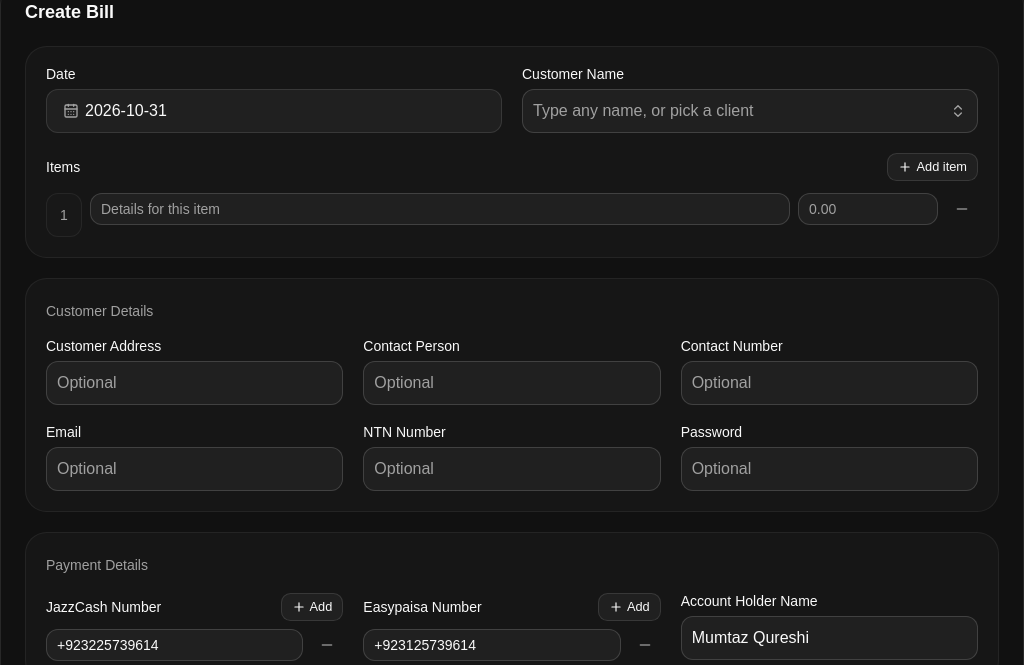
Test: CreateBillForm › shows the total in PKR and the total in words
Type "1500" into the field named "Amount for item 1".
click(868, 209); type("1500")  # box top-left (798, 193), bottom-right (938, 225)
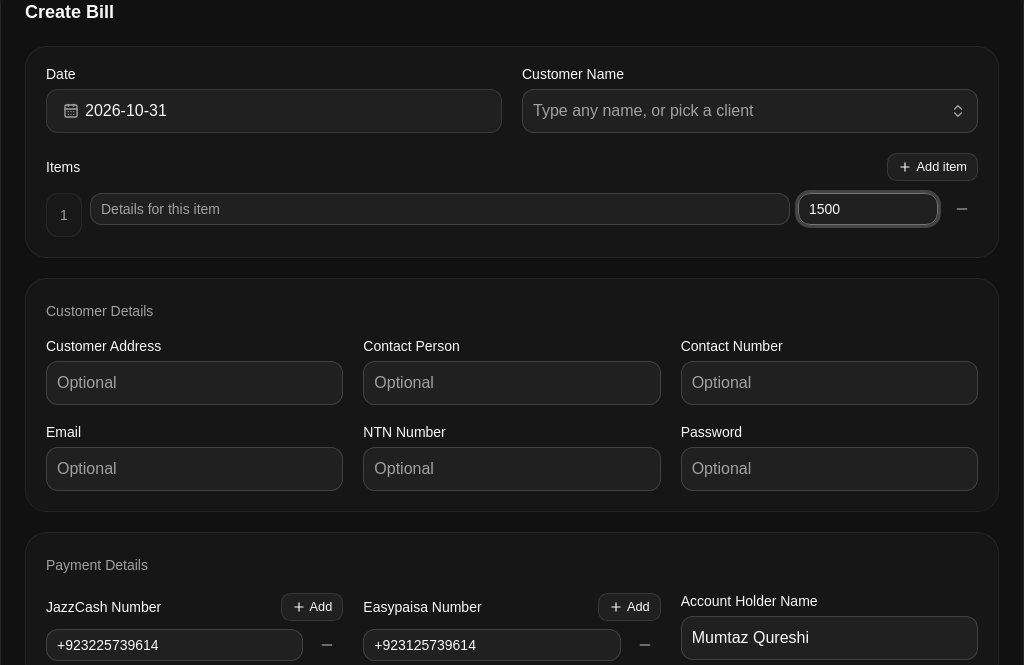
Click the button "Add item".
click(933, 167)  # box top-left (888, 153), bottom-right (978, 181)
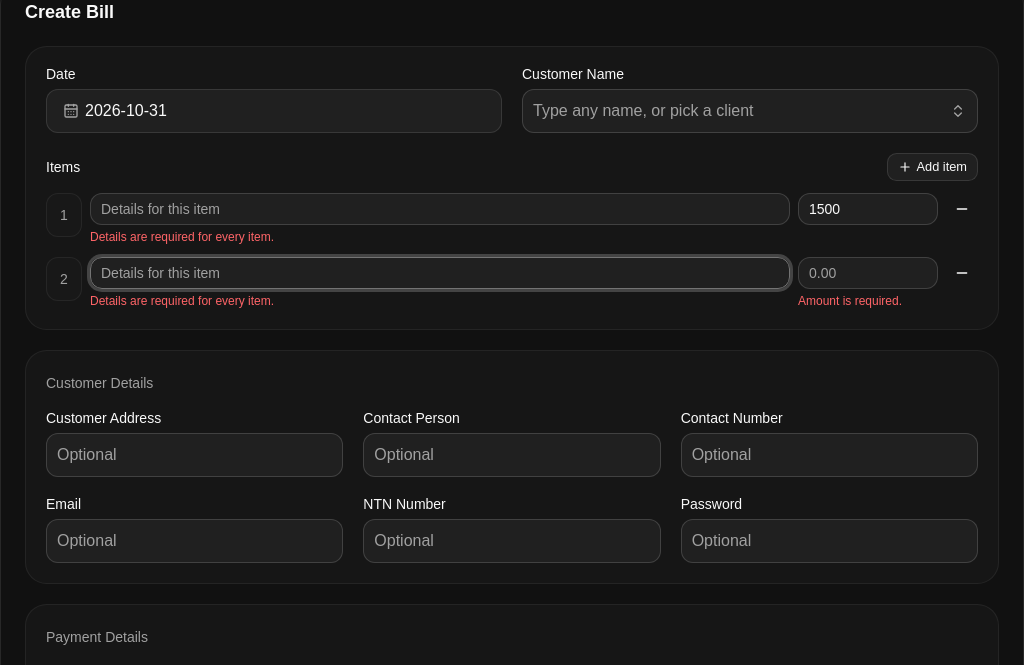
Type "250.50" into the field named "Amount for item 2".
click(868, 273); type("250.50")  # box top-left (798, 257), bottom-right (938, 289)
(page scrolled)
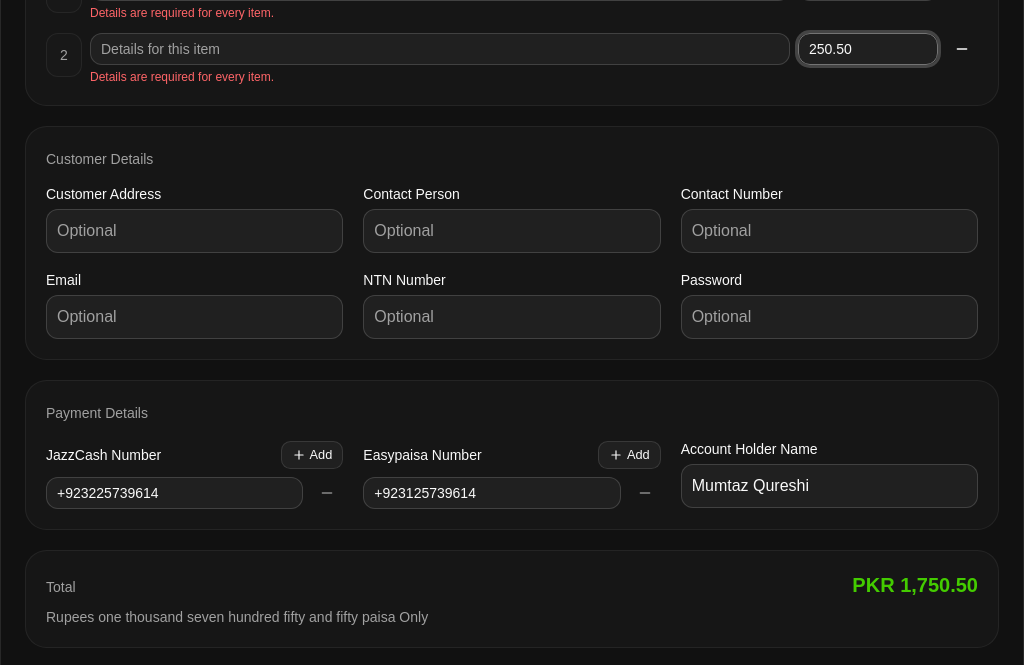
Expected: the text "PKR 1,750.50" is shown, top-left (852, 571), bottom-right (978, 599)
Expected: the text "Rupees one thousand seven hundred fifty and fifty paisa Only" is shown, top-left (46, 609), bottom-right (428, 625)
